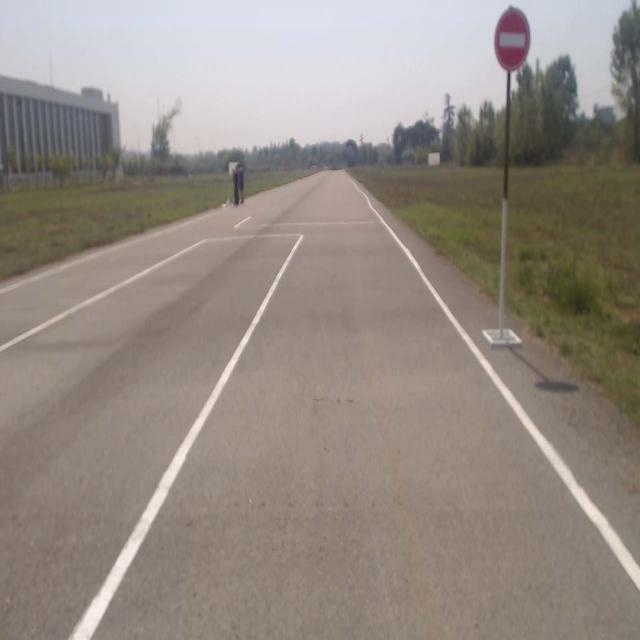girisyok: (492, 10, 530, 71)
